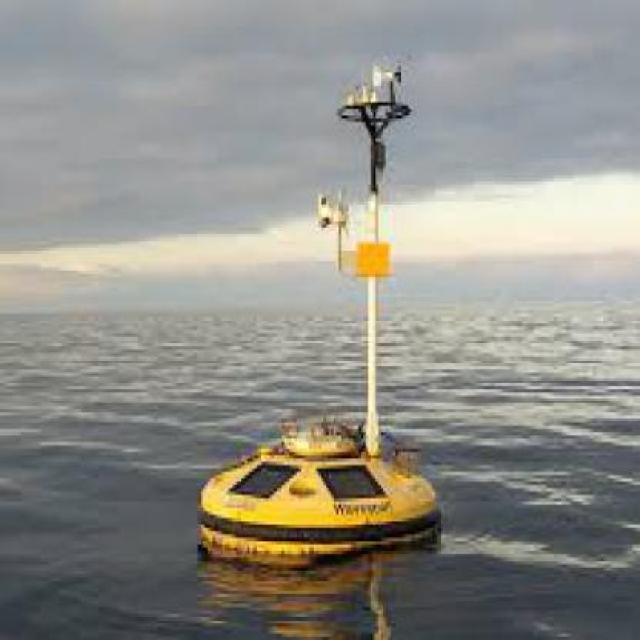buoy: (191, 47, 448, 578)
